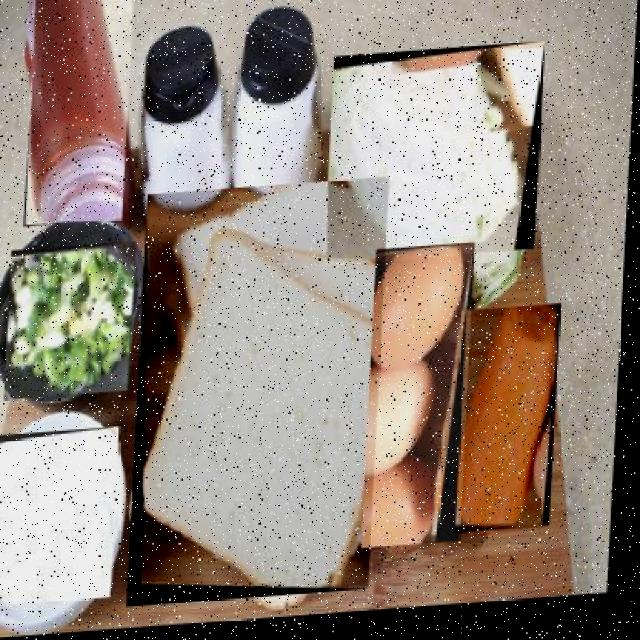Bread: (132, 183, 392, 611)
Butter: (0, 428, 123, 608)
Cabbage: (325, 49, 546, 271)
Carrot: (460, 313, 565, 544)
Egg: (365, 250, 478, 556)
Ketchup: (24, 0, 134, 229)
Onion Leaves: (7, 243, 139, 402)
